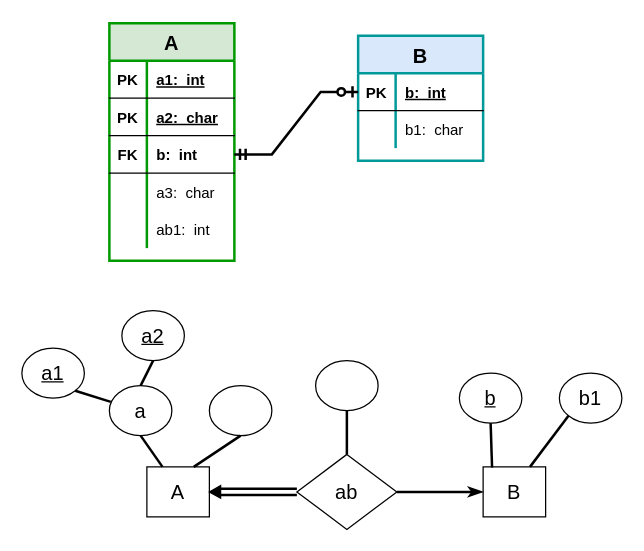
This 644x551 diagram has some shape labels left out. Each missing label, with the centre of its shape:
"a3" goes at point 240,410.
"ab1" goes at point 346,385.
